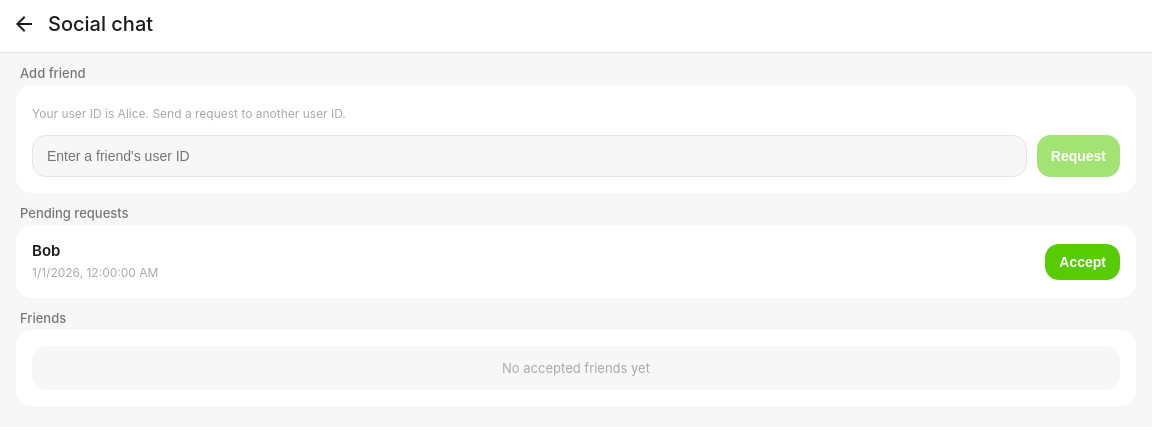
Test: SocialHub › accepts a friend request
Step 1. Click the button "Accept" → (1083, 262), box [1045, 244, 1120, 280]
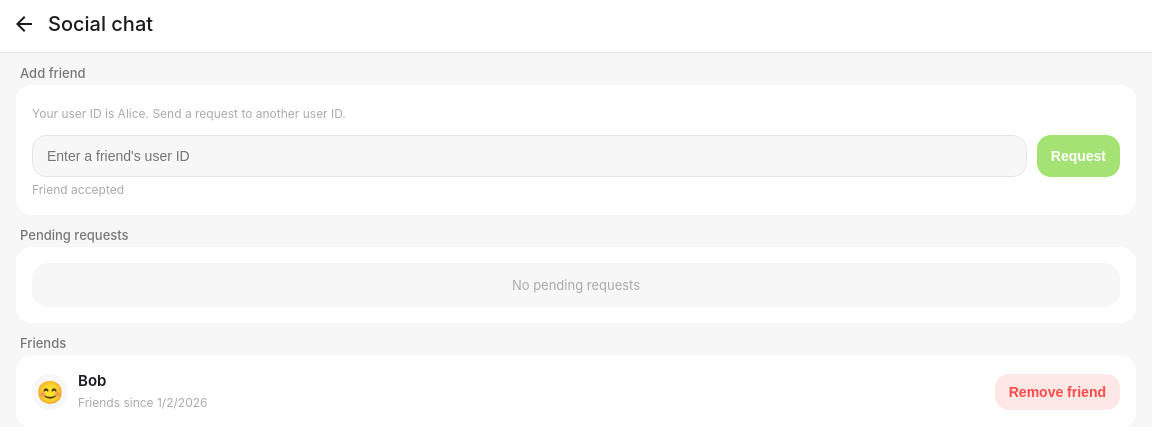
Expected: the text "Friend accepted" is shown, [32, 182, 124, 197]
